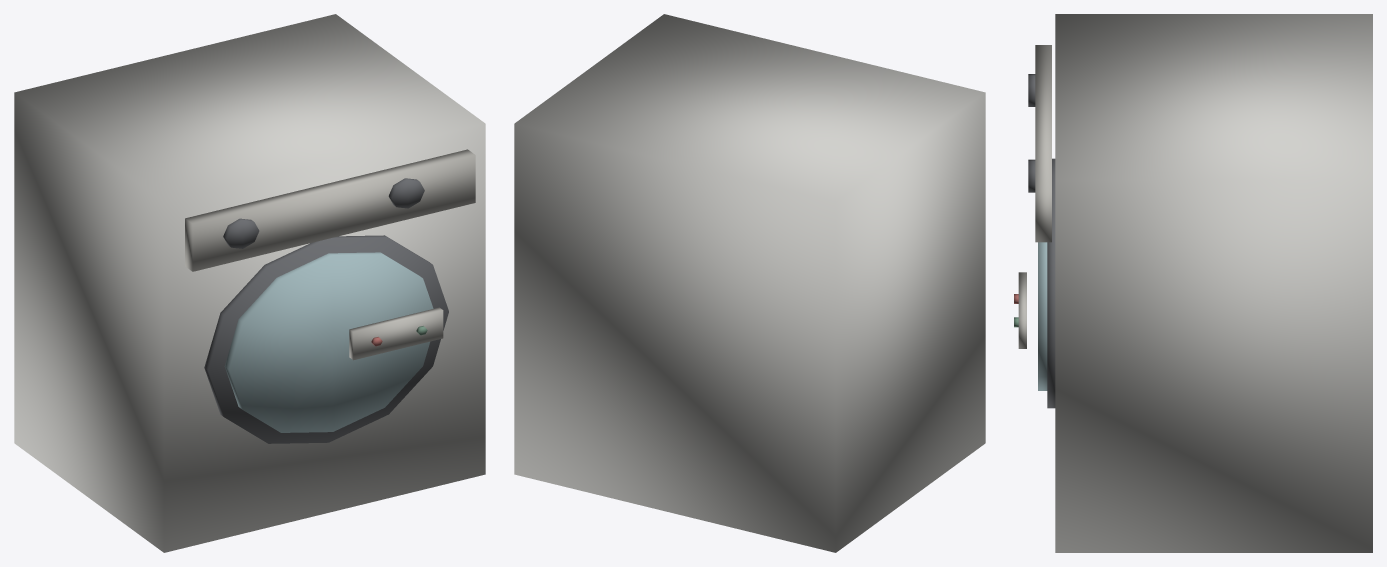
Rendered from domestic_washer__wide.glb.
3 renders of one model, left to right at view 1: azimuth 30°, elevation 25°; view 2: azimuth 150°, elevation 25°; view 3: azimuth 270°, elevation 25°, orthographic. The views are drawn at different scales.
Parts seen in each view (by area): view 1: world; view 2: world; view 3: world.
Part boxes in pixels (x1,y1,x2,y2): world: (14,14,485,552); world: (514,14,985,552); world: (1014,14,1372,552).
Size of the model in its own units: 0.8432 by 0.88 by 0.7685.
